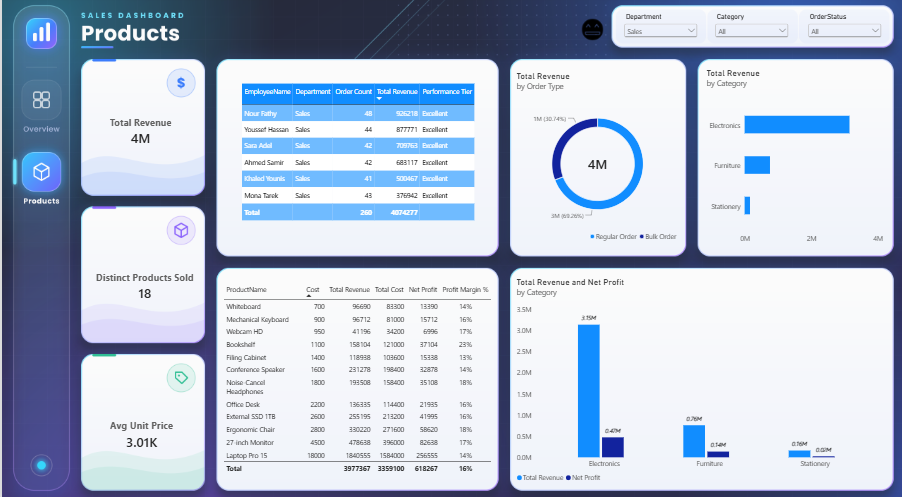

The page's visual inventory and layout, read from the dashboard file:
{"tool":"powerbi","page":{"name":"Page 3","canvas":[1920,1080],"ordinal":2},"visuals":[{"type":"slicer","fields":{"Values":["Employees.Department"]},"box":[1317.1,37.1,165.3,59.5],"z":0},{"type":"slicer","fields":{"Values":["Products.Category"]},"box":[1511.4,37.1,165.3,59.5],"z":1000},{"type":"slicer","fields":{"Values":["Sales.OrderStatus"]},"box":[1710,37.1,165.3,59.5],"z":2000},{"type":"cardVisual","fields":{"Data":["_Measures.Total Revenue"]},"box":[189.6,171.9,211.6,231.4],"z":3000},{"type":"cardVisual","fields":{"Data":["_Measures.Distinct Products Sold"]},"box":[165.3,502.5,276,232],"z":4000},{"type":"cardVisual","fields":{"Data":["_Measures.Avg Unit Price"]},"box":[165.3,817.7,262,230],"z":5000},{"type":"donutChart","fields":{"Category":["Sales.Order Type","Products.Category"],"Y":["_Measures.Total Revenue"]},"box":[1078.3,145,376.7,396.7],"z":6000},{"type":"barChart","fields":{"Category":["Products.Category"],"Y":["_Measures.Total Revenue"]},"box":[1482,139,407,409],"z":7000},{"type":"tableEx","fields":{"Values":["Products.ProductName","Products.Cost","_Measures.Total Revenue","_Measures.Total Cost","_Measures.Net Profit","_Measures.Profit Margin %"]},"box":[455,595,611,457],"z":9000},{"type":"clusteredColumnChart","fields":{"Category":["Products.Category"],"Y":["_Measures.Total Revenue","_Measures.Net Profit"]},"box":[1077.8,582.2,812.2,472.2],"z":10000},{"type":"tableEx","fields":{"Values":["Employees.EmployeeName","Employees.Department","CountNonNull(Sales.OrderID)","_Measures.Total Revenue","Employees.Performance Tier"]},"box":[492.5,172.5,585,396.2],"z":11000},{"type":"actionButton","box":[27.5,172.5,107.5,85],"z":12000},{"type":"actionButton","box":[1222.5,37.5,65,65],"z":12001}]}

Visuals, with their boxes in screenshot pixels (x1, y1, x2, y2):
slicer - Employees.Department: bbox=(621, 10, 699, 38)
slicer - Products.Category: bbox=(713, 10, 790, 38)
slicer - Sales.OrderStatus: bbox=(806, 10, 884, 38)
cardVisual - _Measures.Total Revenue: bbox=(89, 74, 189, 183)
cardVisual - _Measures.Distinct Products Sold: bbox=(78, 230, 208, 339)
cardVisual - _Measures.Avg Unit Price: bbox=(78, 378, 201, 487)
donutChart - Sales.Order Type x Products.Category: bbox=(508, 61, 686, 248)
barChart - Products.Category x _Measures.Total Revenue: bbox=(699, 58, 891, 251)
tableEx - Products.ProductName x Products.Cost: bbox=(215, 273, 503, 489)
clusteredColumnChart - Products.Category x _Measures.Total Revenue: bbox=(508, 267, 891, 490)
tableEx - Employees.EmployeeName x Employees.Department: bbox=(232, 74, 508, 261)
actionButton: bbox=(13, 74, 64, 114)
actionButton: bbox=(576, 11, 607, 41)
